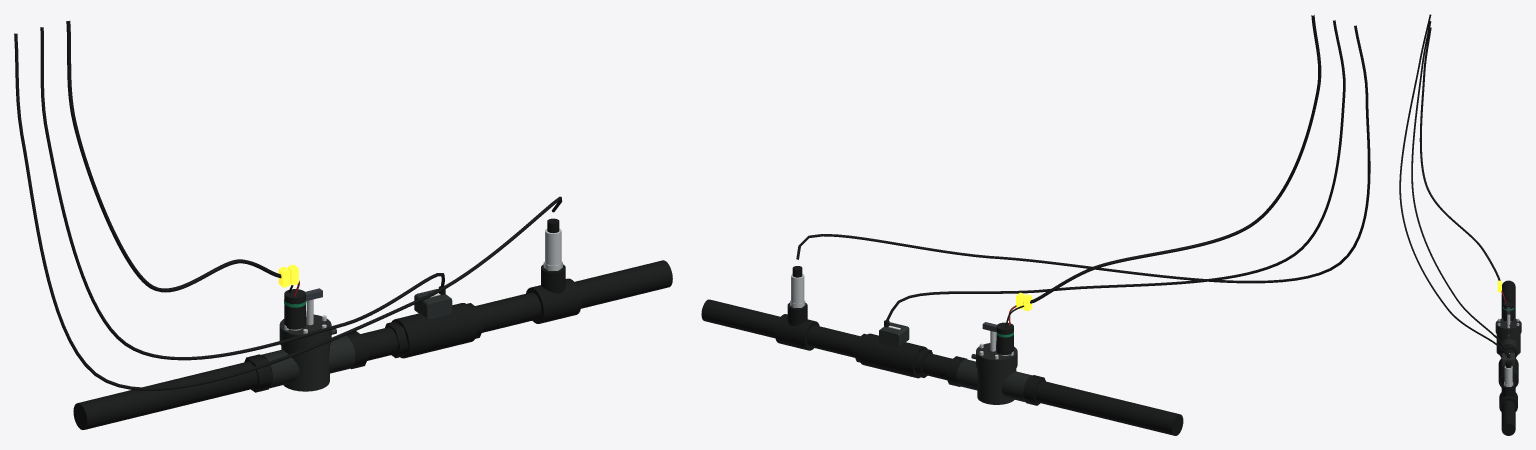
Rendered from agrismart-drip_module-web.meshopt.glb.
3 renders of one model, left to right at view 1: azimuth 30°, elevation 25°; view 2: azimuth 150°, elevation 25°; view 3: azimuth 270°, elevation 25°, orthographic. The views are drawn at different scales.
Visible parts, largest first — view 1: pipe (×4), pressure_cable, flow_cable, meter_body, valve_cable, body_ports, tee_run, body_bowl, bonnet, sensor_head, solenoid_body; view 2: pipe (×3), pressure_cable, flow_cable, valve_cable, meter_body, body_ports, body_bowl, tee_run, bonnet; view 3: pressure_cable, pipe (×2), flow_cable, valve_cable, bonnet, meter_body, body_bowl, tee_run, solenoid_body, transducer_body, tee_branch, sensor_head.
Part boxes in pixels (bbox=[...]): pipe (×4): bbox=[73, 260, 672, 429]; pressure_cable: bbox=[14, 33, 562, 390]; flow_cable: bbox=[40, 27, 444, 360]; meter_body: bbox=[391, 303, 476, 358]; valve_cable: bbox=[66, 21, 281, 292]; body_ports: bbox=[261, 335, 355, 388]; tee_run: bbox=[526, 278, 581, 323]; body_bowl: bbox=[281, 346, 329, 391]; bonnet: bbox=[279, 314, 331, 352]; sensor_head: bbox=[414, 289, 452, 319]; solenoid_body: bbox=[284, 289, 305, 329]; pipe (×3): bbox=[701, 299, 1183, 435]; pressure_cable: bbox=[796, 25, 1370, 283]; flow_cable: bbox=[886, 20, 1345, 321]; valve_cable: bbox=[1030, 15, 1321, 303]; meter_body: bbox=[859, 333, 927, 378]; body_ports: bbox=[956, 359, 1032, 402]; body_bowl: bbox=[977, 368, 1016, 404]; tee_run: bbox=[775, 314, 819, 350]; bonnet: bbox=[976, 343, 1017, 373]; pressure_cable: bbox=[1399, 14, 1509, 357]; pipe (×2): bbox=[1501, 280, 1515, 435]; flow_cable: bbox=[1411, 21, 1508, 354]; valve_cable: bbox=[1419, 27, 1500, 280]; bonnet: bbox=[1495, 318, 1521, 337]; meter_body: bbox=[1498, 358, 1518, 387]; body_bowl: bbox=[1496, 334, 1520, 354]; tee_run: bbox=[1499, 392, 1517, 411]; solenoid_body: bbox=[1503, 301, 1513, 321]; transducer_body: bbox=[1504, 366, 1512, 384]; tee_branch: bbox=[1502, 384, 1514, 396]; sensor_head: bbox=[1502, 353, 1514, 366].
Bounding box in the file's own units: 0.9786 × 0.6304 × 0.2822.
